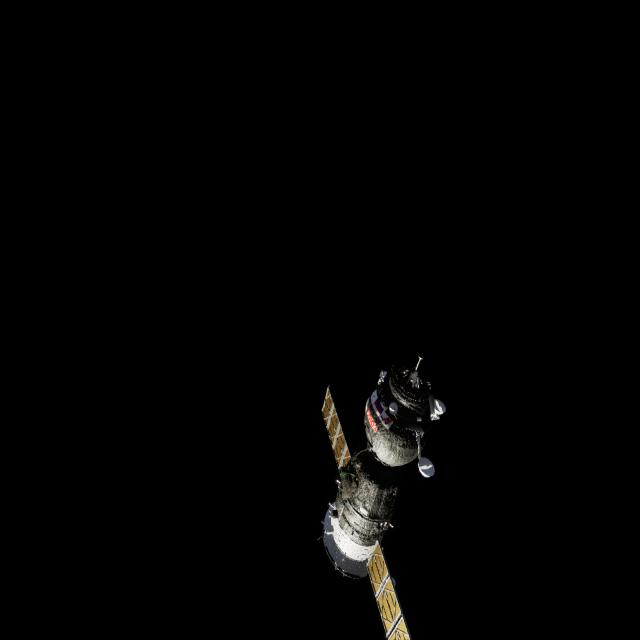Satellites revolving around earth: (318, 352, 448, 637)
